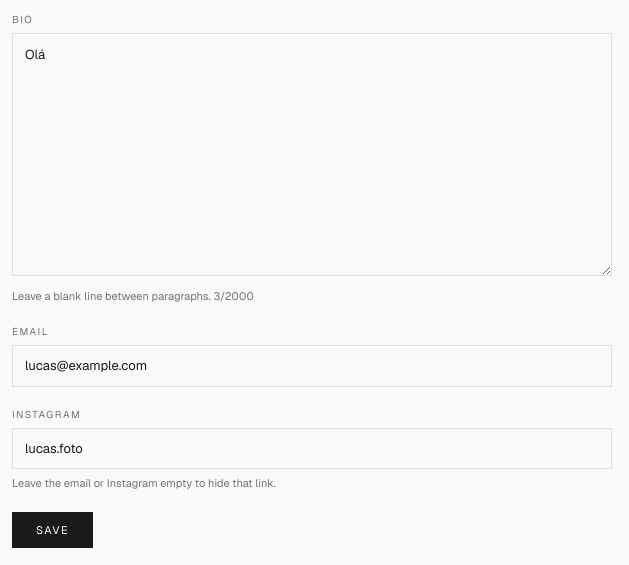
Test: ProfileForm › saves the fields and shows the stored values
Replace the text in the text box labelled "Bio" with "Sou fotógrafo." at (312,154), box [12,33,612,276]
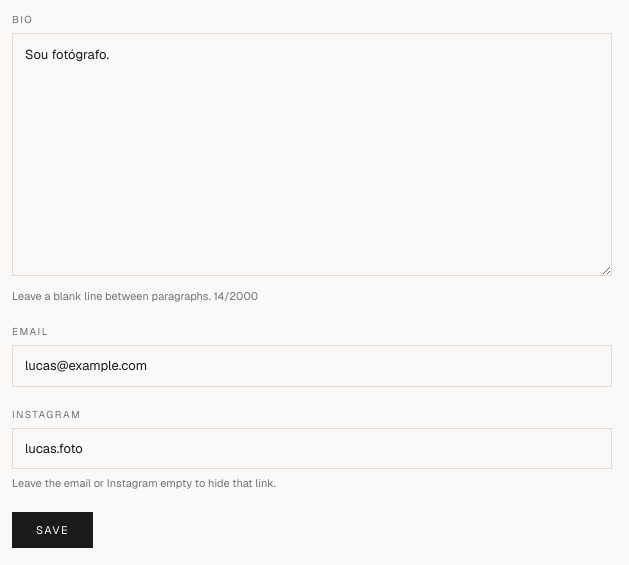
Replace the text in the field labelled "Instagram" with "https://instagram.com/novo/" at (312,449), box [12,428,612,469]
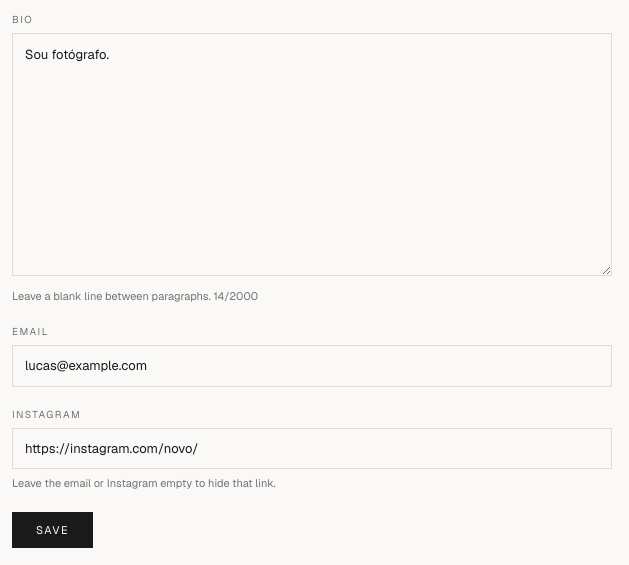
Click the button "Save" at (53,530), box [12,512,93,548]
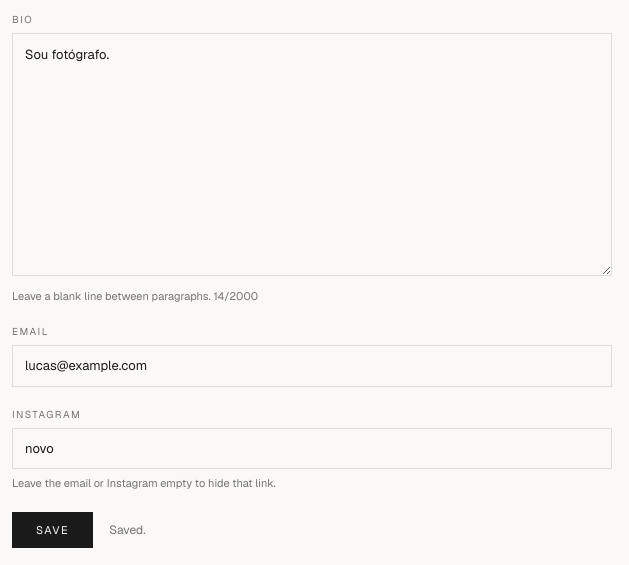
Expected: the text "Saved." is shown, [109,522,146,538]
Expected: the field labelled "Instagram" holds "novo", [12,428,612,469]
